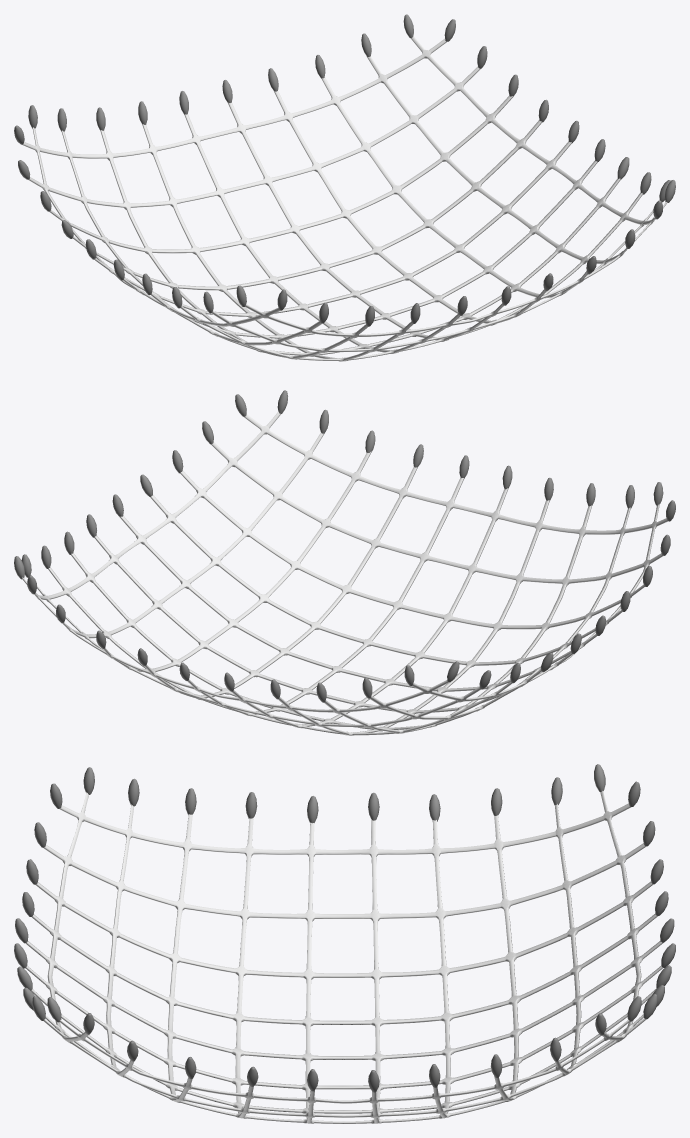
Rendered from netlauncher_net.fbx.
3 views of the same model, one above another, from view 1: azimuth 30°, elevation 25°; view 2: azimuth 150°, elevation 25°; view 3: azimuth 270°, elevation 25° (orthographic). The views are drawn at different scales.
Parts seen in each view (by area): view 1: polySurface63; view 2: polySurface63; view 3: polySurface63.
Boxes of the visible parts, x1,y1,x2,y2 form: polySurface63: (14, 14, 675, 361); polySurface63: (14, 390, 675, 735); polySurface63: (14, 764, 675, 1123).
Bounding box in the file's own units: 69.63 × 21.75 × 69.7.
1 material, 1 textured.
